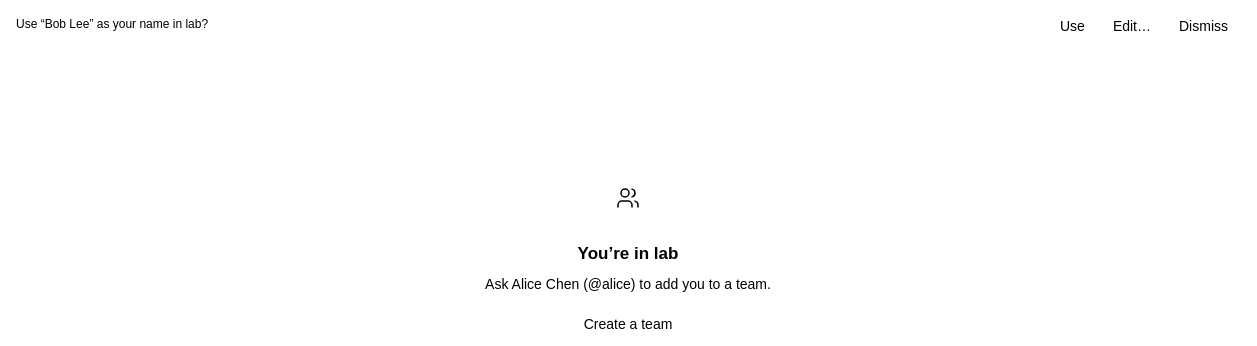
Test: NoTeamState › offers the server-account name on "You’re in {workspace}", once
Expected: the text "Use “Bob Lee” as your name in lab?" is shown, [16, 17, 208, 31]
Click the button "Dismiss" at (1204, 26), box [1167, 16, 1240, 36]
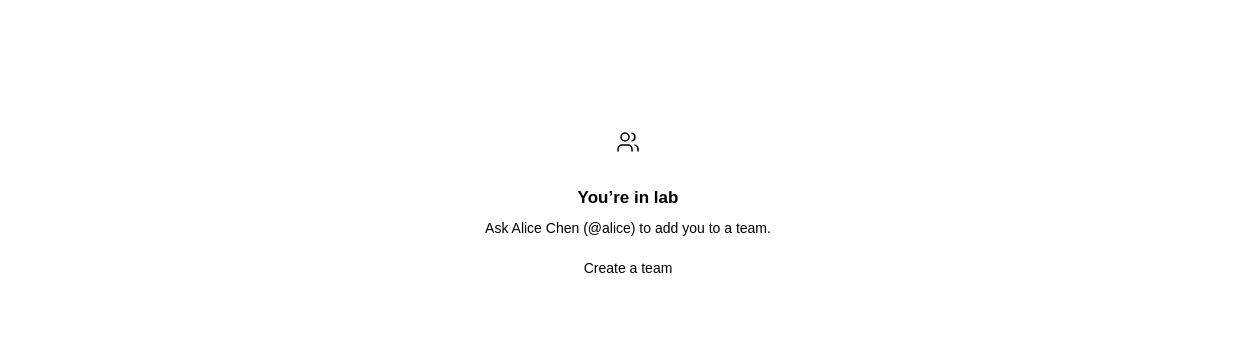
Now the text "Use “Bob Lee” as your name in lab?" is gone
